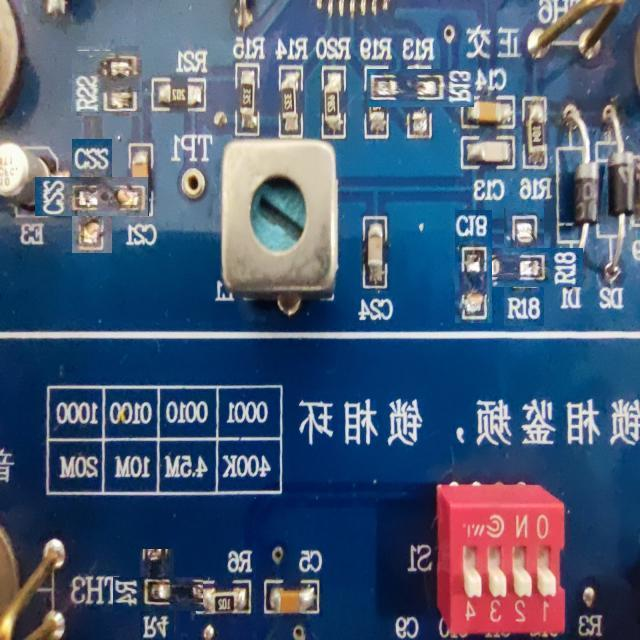miss_welding: (484, 228, 564, 307), (54, 158, 130, 235), (384, 52, 456, 125), (454, 210, 492, 324), (74, 49, 140, 114), (126, 563, 189, 626)
